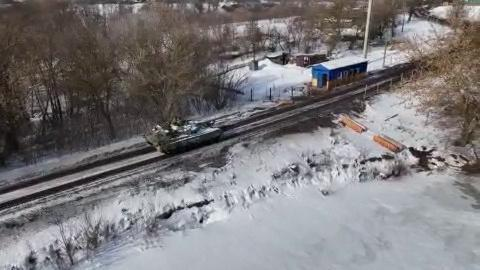tank: (143, 111, 240, 156)
